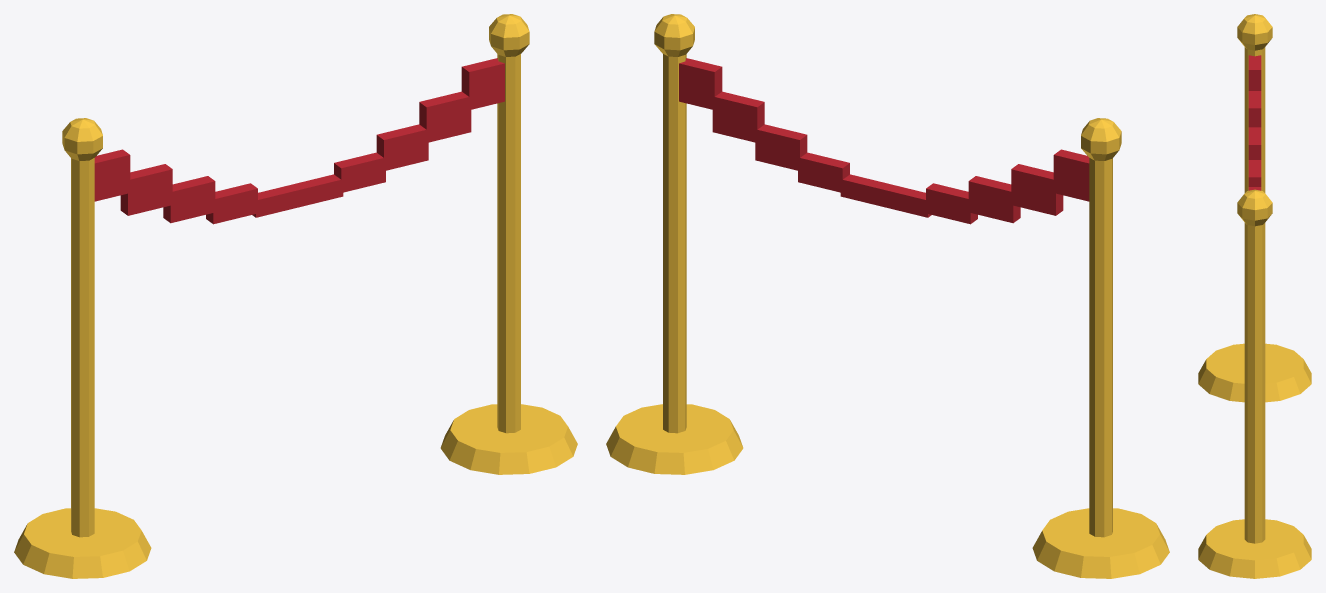
Rendered from rope_barrier.obj.
The picture shows the model from 3 angles, left to right: view 1: azimuth 30°, elevation 25°; view 2: azimuth 150°, elevation 25°; view 3: azimuth 270°, elevation 25°; orthographic projection. The views are drawn at different scales.
Visible parts, largest first — view 1: rope_barrier; view 2: rope_barrier; view 3: rope_barrier.
Part boxes in pixels (x1,y1,x2,y2): rope_barrier: (14,14,577,578); rope_barrier: (606,14,1169,578); rope_barrier: (1198,14,1311,578).
Size of the model in its own units: 1.28 by 0.965 by 0.273.
